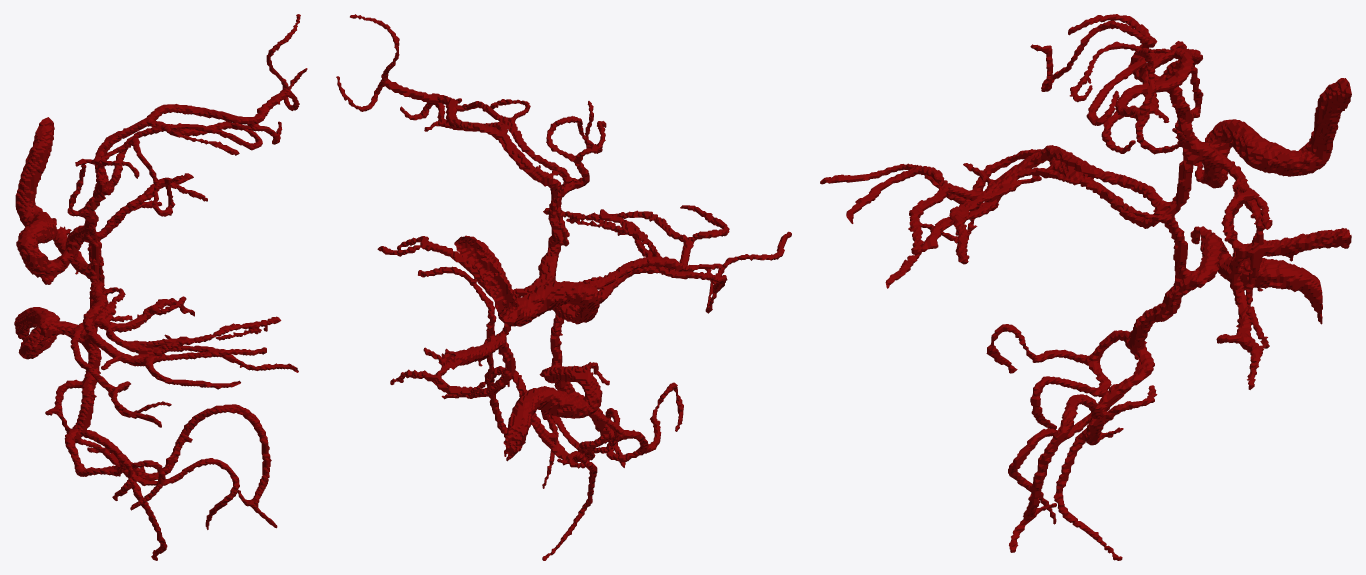
Rendered from TesterColor.fbx.
3 renders of one model, left to right at view 1: azimuth 30°, elevation 25°; view 2: azimuth 150°, elevation 25°; view 3: azimuth 270°, elevation 25°, orthographic. The views are drawn at different scales.
Visible parts, largest first — view 1: polySurface1; view 2: polySurface1; view 3: polySurface1.
Part boxes in pixels (bbox=[...]): polySurface1: bbox=[14, 14, 307, 560]; polySurface1: bbox=[336, 14, 791, 560]; polySurface1: bbox=[820, 14, 1351, 560].
Size of the model in its own units: 84.93 by 130 by 103.
